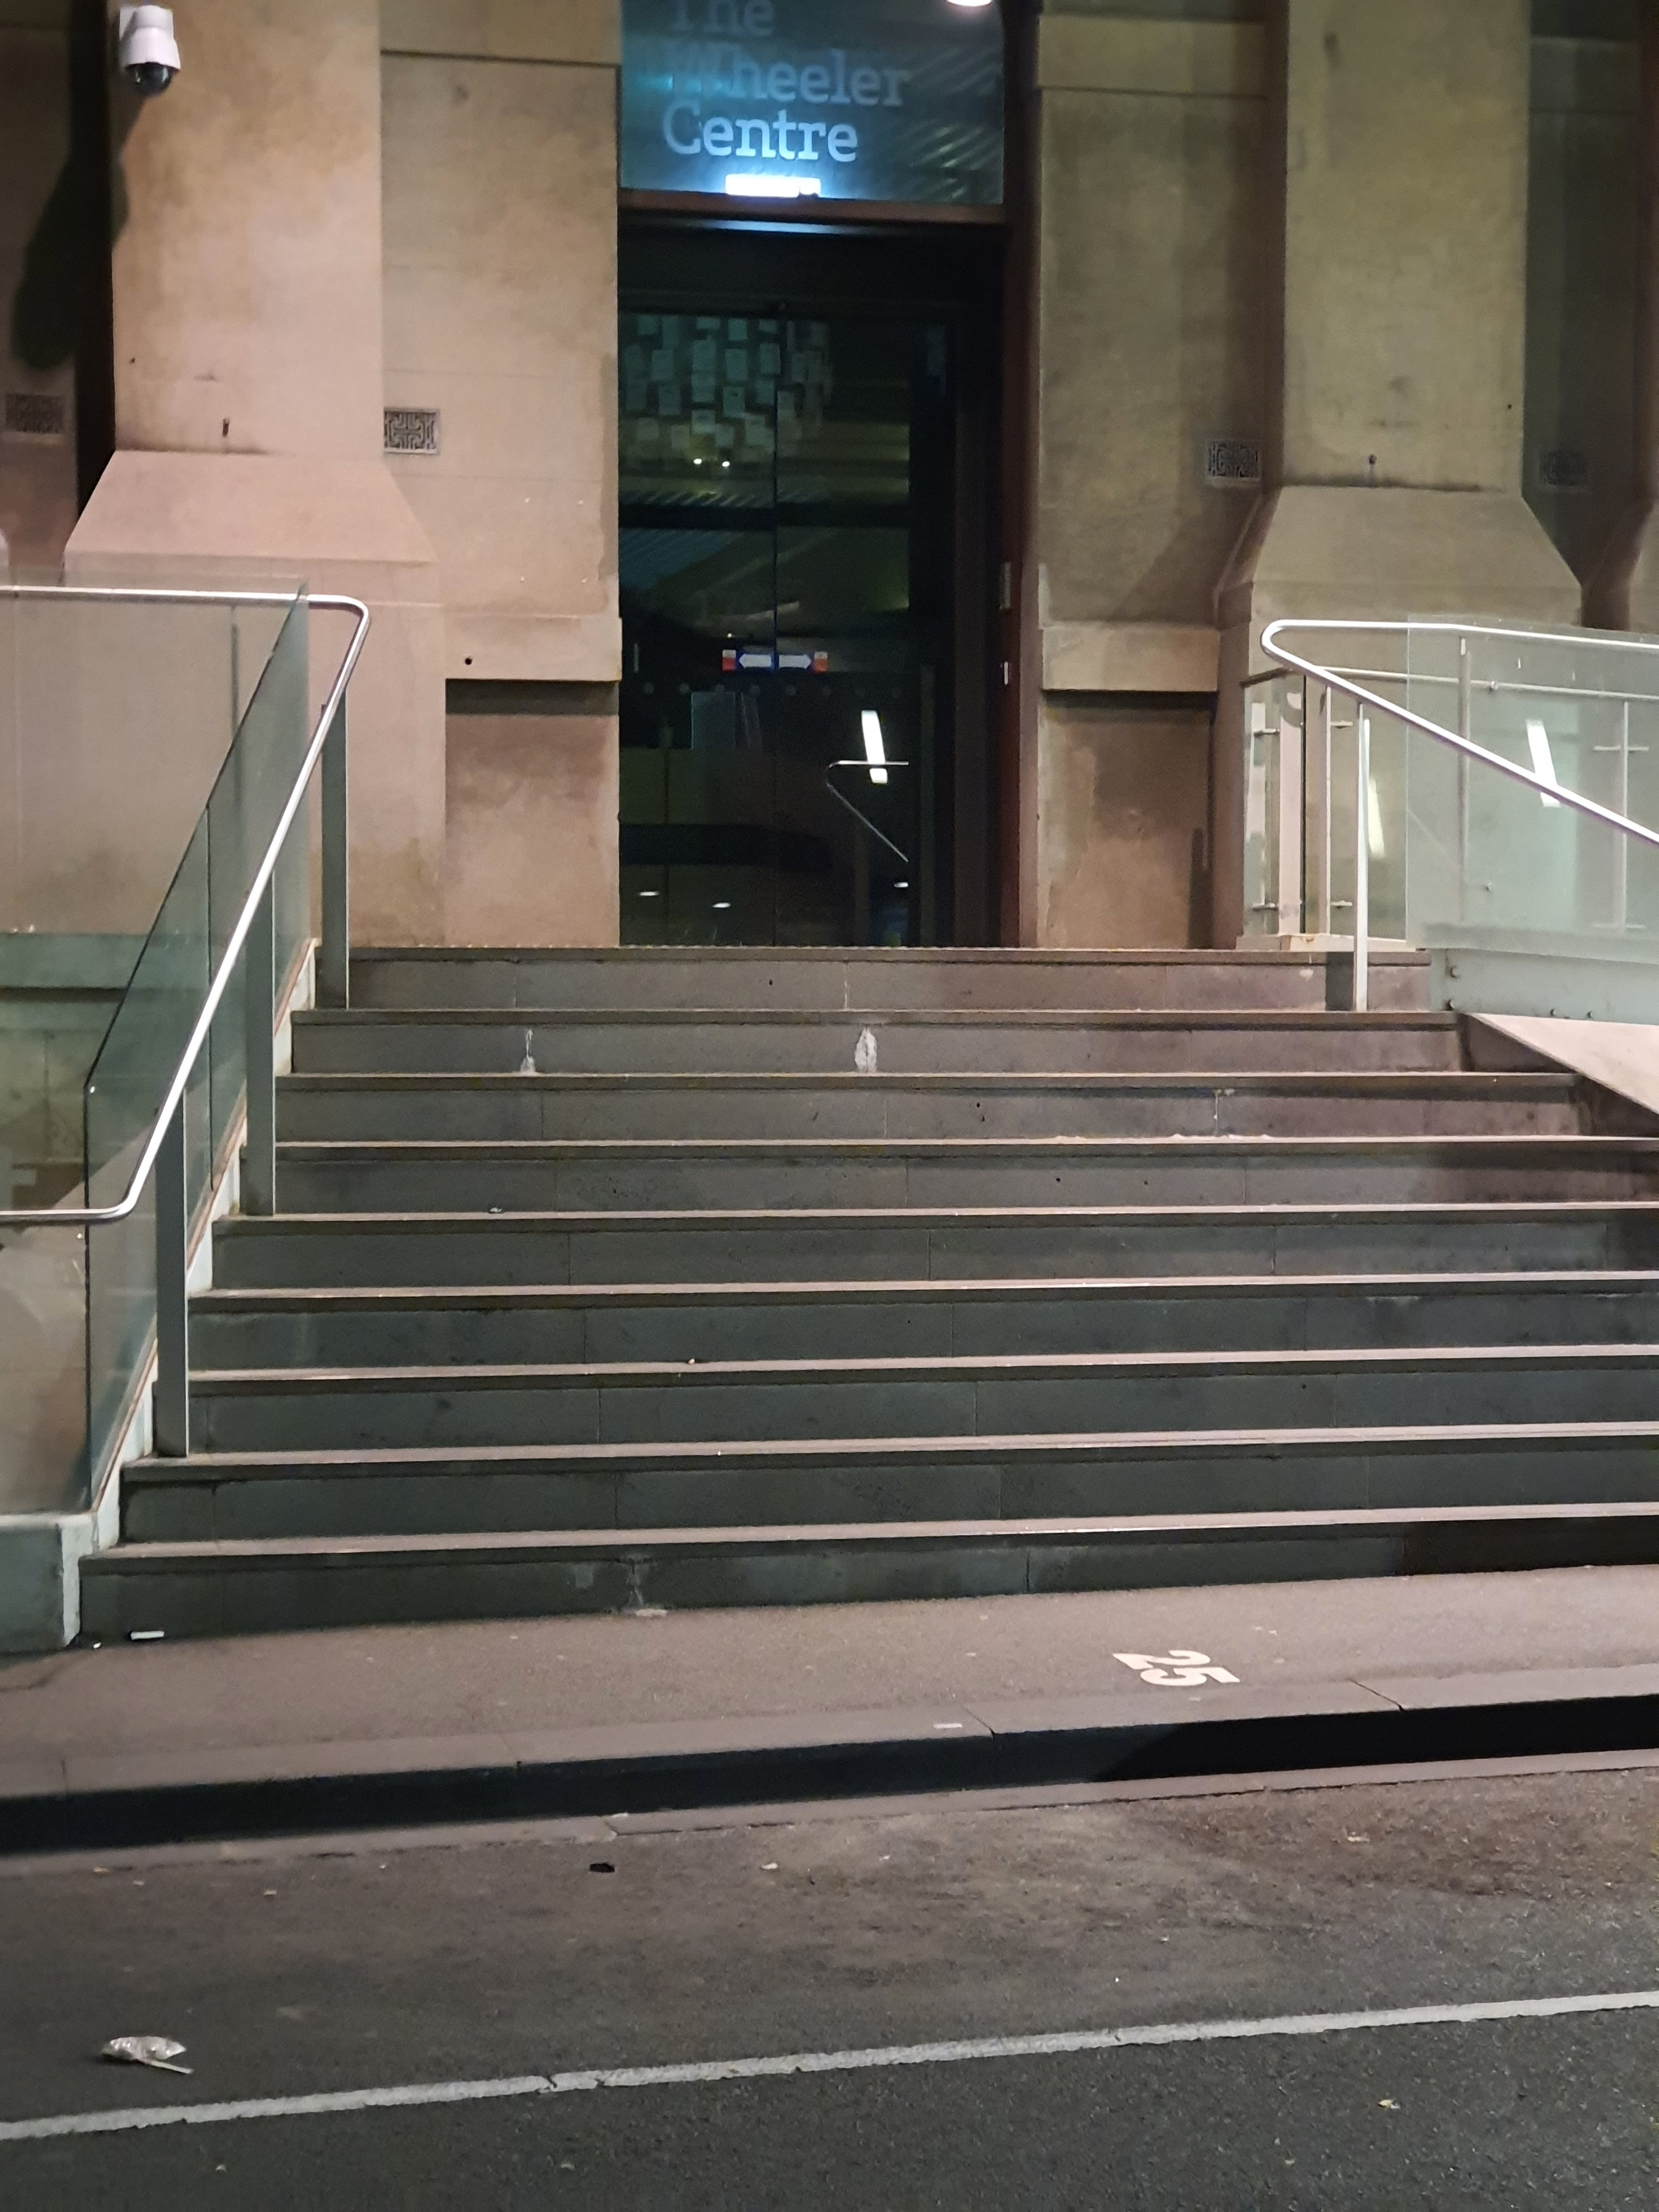upstairs: (272, 1157, 1659, 1648)
